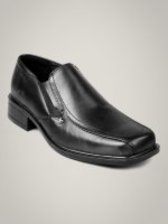shoesd: (4, 54, 164, 164)
